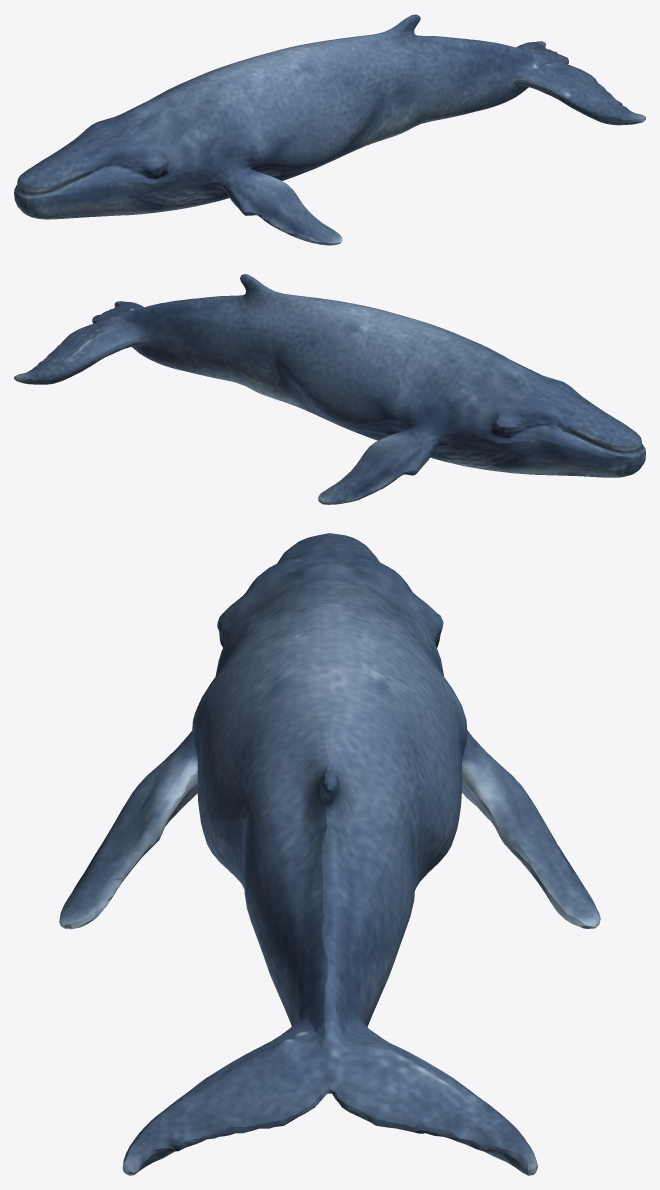
The picture shows the model from 3 angles, top to bottom: view 1: azimuth 30°, elevation 25°; view 2: azimuth 150°, elevation 25°; view 3: azimuth 270°, elevation 25°; orthographic projection. The views are drawn at different scales.
Visible parts, largest first — view 1: world; view 2: world; view 3: world.
Boxes of the visible parts, <box> form: world: <box>14,14,645,245</box>; world: <box>14,274,645,504</box>; world: <box>59,533,600,1175</box>.
Size of the model in its own units: 25 by 6.04 by 10.15.
1 material, 1 textured.
